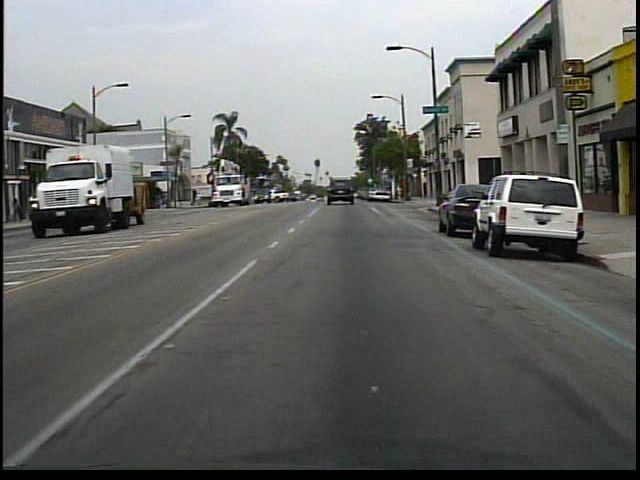person: (15, 194, 25, 223)
